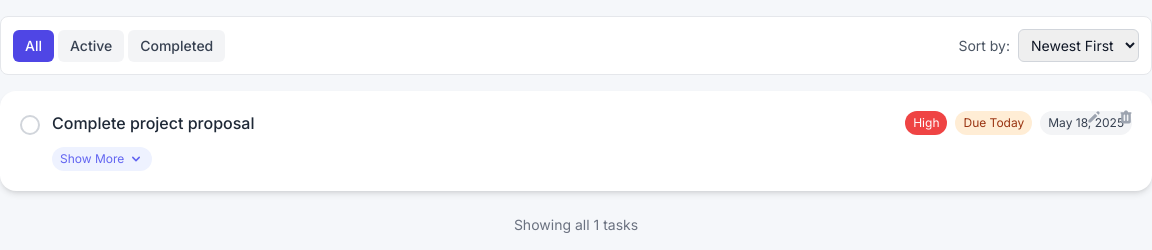
TodoList Component › filters todos based on filter criteria
Check: the heading "Complete project proposal" is shown, box [52, 111, 254, 135]
Click the button "Completed" at point(177, 46), box [128, 30, 225, 62]
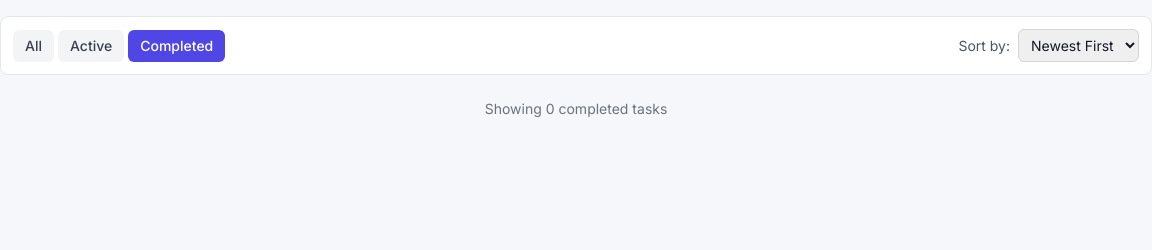
Check: the button "Complete project proposal" is gone
